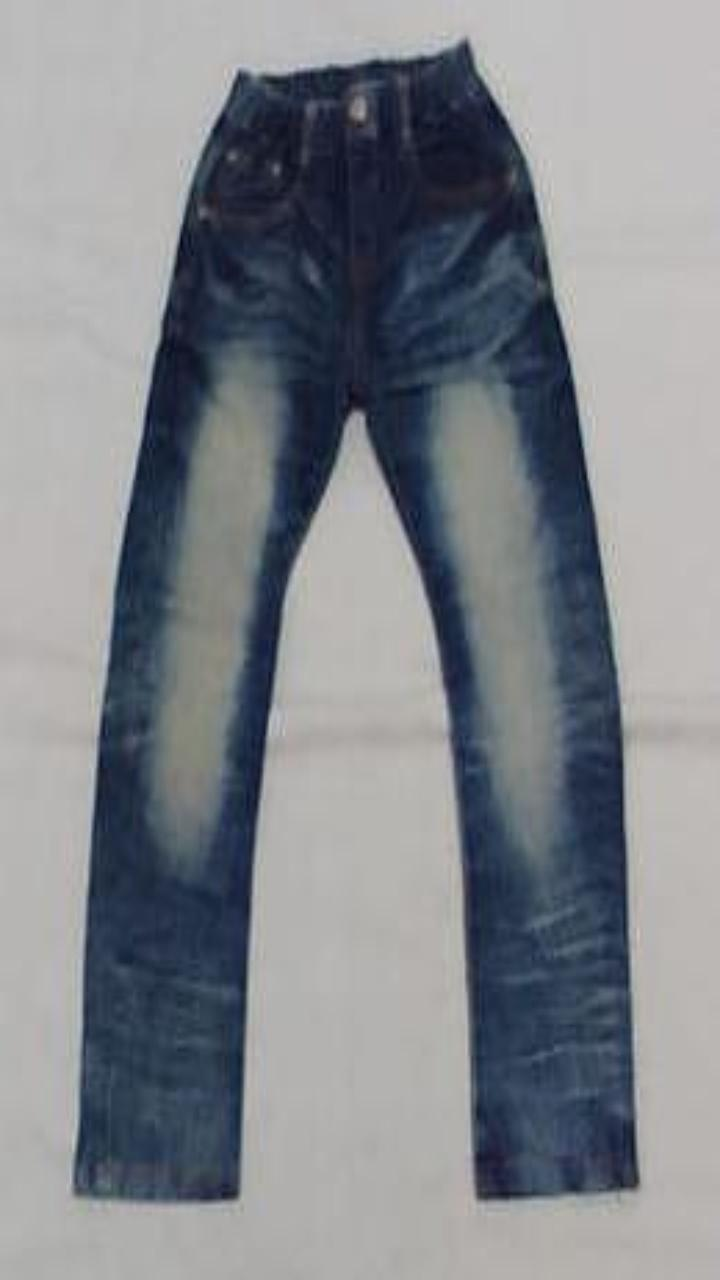Jeans: (74, 38, 638, 1199)
